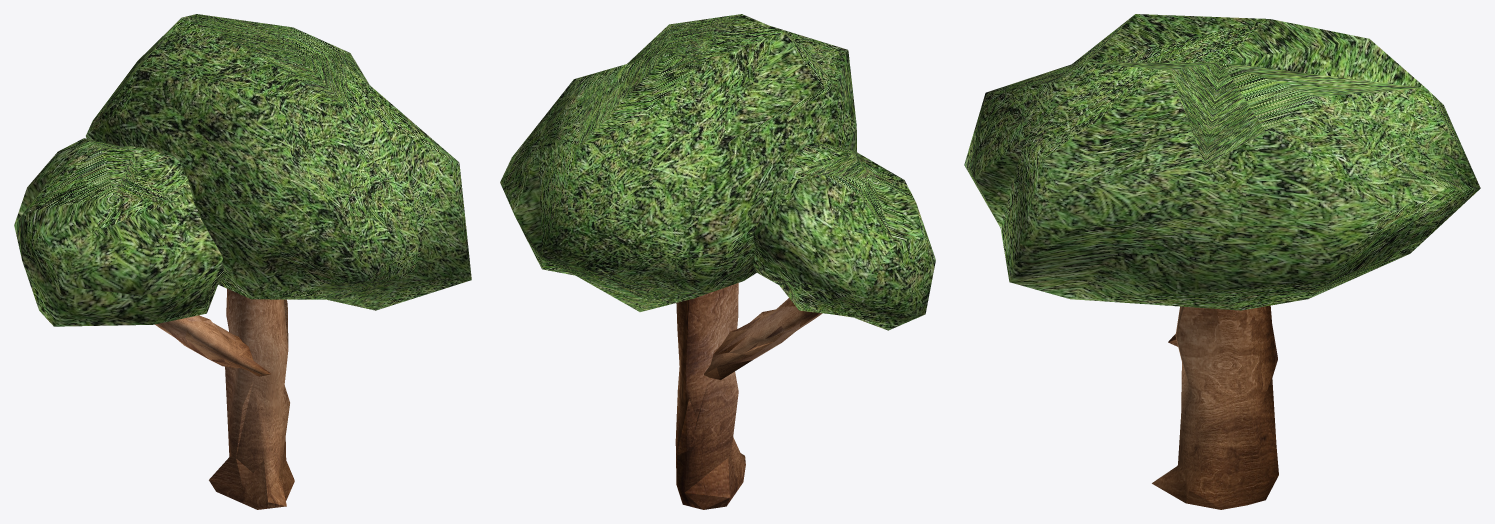
Rendered from tree2 1.fbx.
3 views of the same model, side by side, from view 1: azimuth 30°, elevation 25°; view 2: azimuth 150°, elevation 25°; view 3: azimuth 270°, elevation 25° (orthographic). The views are drawn at different scales.
Visible parts, largest first — view 1: Box002, Box003, Cylinder002, Cylinder003; view 2: Box002, Box003, Cylinder002, Cylinder003; view 3: Box002, Cylinder002.
Boxes of the visible parts, left/top/right/bottom form: Box002: left=86, top=14, right=471, bottom=310; Box003: left=14, top=138, right=225, bottom=326; Cylinder002: left=209, top=288, right=294, bottom=509; Cylinder003: left=155, top=315, right=271, bottom=376; Box002: left=500, top=14, right=856, bottom=311; Box003: left=753, top=142, right=935, bottom=330; Cylinder002: left=675, top=283, right=745, bottom=509; Cylinder003: left=704, top=298, right=822, bottom=379; Box002: left=964, top=14, right=1480, bottom=310; Cylinder002: left=1152, top=305, right=1278, bottom=509.
Bounding box in the file's own units: 220 × 256 × 253.
2 materials, 2 textured.
